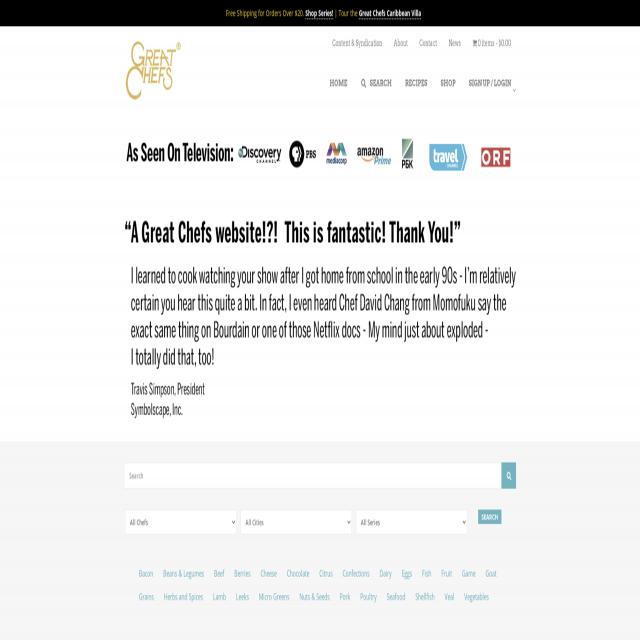button: (124, 38, 186, 110), (327, 27, 387, 62), (424, 135, 472, 177), (475, 135, 518, 177), (462, 68, 520, 98), (468, 27, 516, 62), (237, 137, 284, 171), (354, 136, 394, 173), (354, 68, 398, 98), (286, 136, 321, 172), (398, 68, 434, 98), (323, 136, 351, 172), (414, 27, 442, 62), (322, 68, 353, 97), (434, 67, 462, 99), (388, 27, 412, 62), (397, 135, 418, 174), (443, 27, 466, 62), (502, 462, 516, 488), (478, 509, 502, 524)
field: (124, 464, 502, 488), (125, 510, 237, 534), (240, 510, 352, 534), (356, 510, 468, 534)
